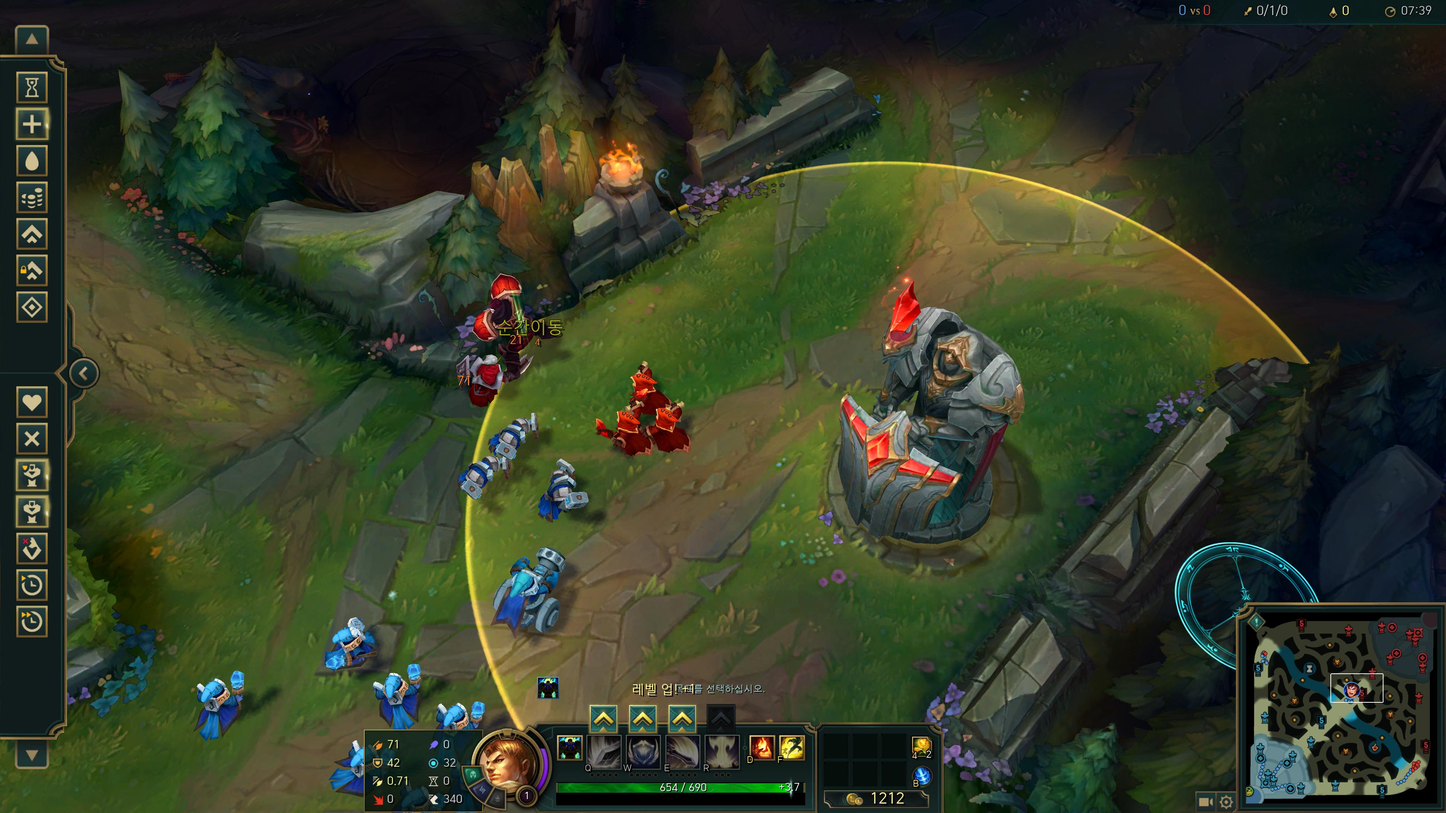ally-caster-minion: (195, 671, 248, 740), (373, 665, 426, 728), (322, 617, 375, 671)
ally-melee-minion: (538, 458, 587, 522), (461, 455, 512, 502), (490, 414, 542, 458)
ally-siege-minion: (493, 546, 566, 637)
enemy-caster-minion: (597, 402, 651, 455), (645, 401, 692, 455), (628, 360, 667, 410)
enemy-tower: (825, 282, 1022, 577)
